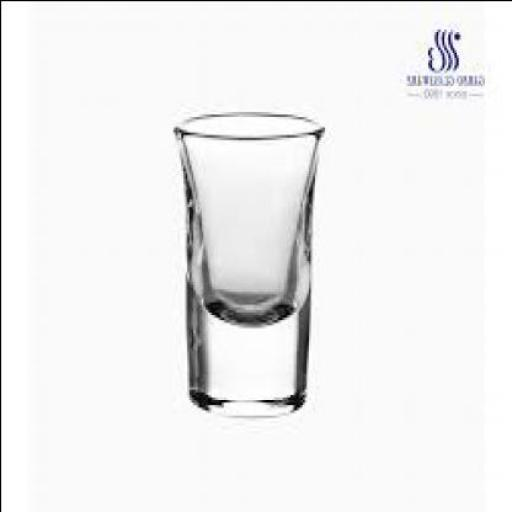glass: (174, 108, 326, 411)
